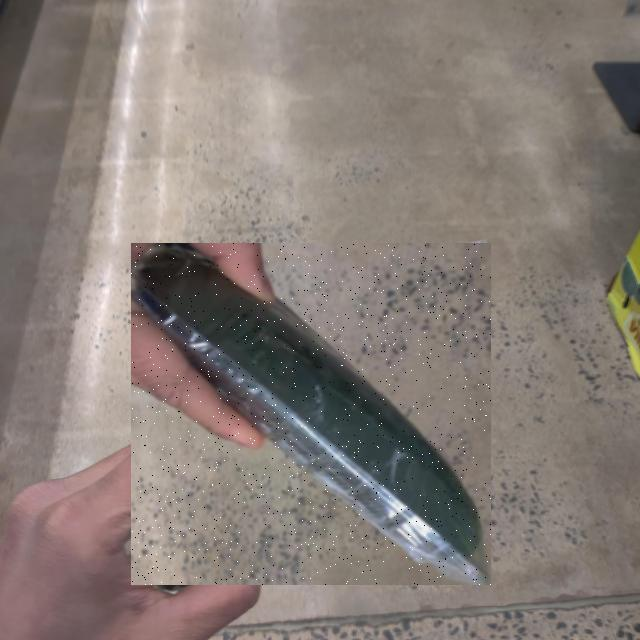Cucumber: (131, 243, 491, 585)
